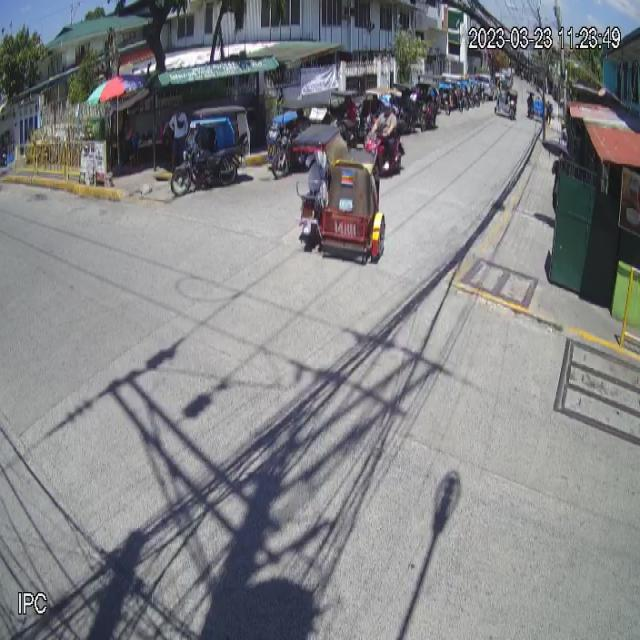Tricycle: (291, 122, 386, 266), (170, 105, 251, 197)
